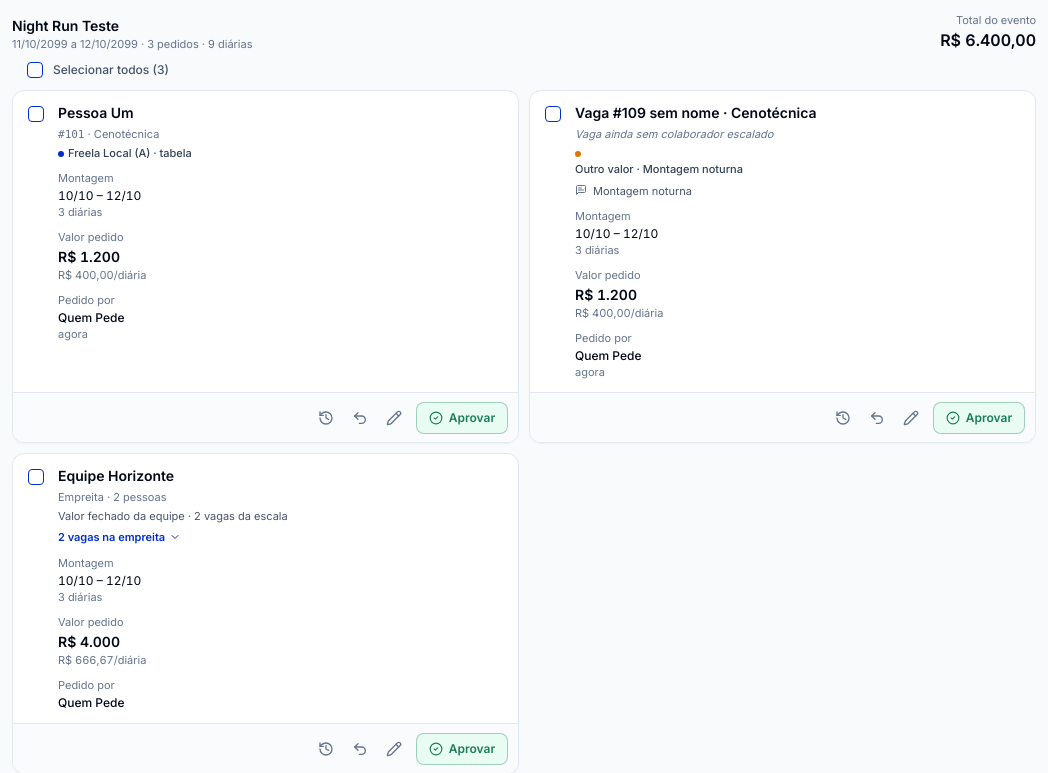
Test: Honorários — empreita que agrupa vagas › aprovador vê a origem do valor (tabela × outro valor) e a empreita como um pedido com as vagas
Expected: the elements with test id "hon-origem-do-valor" read "Freela Local (A) · tabela", "Outro valor · Montagem noturna", "Valor fechado da equipe · 2 vagas da escala", in this order, x1=58 y1=146 x2=192 y2=160; x1=575 y1=151 x2=743 y2=176; x1=58 y1=509 x2=288 y2=523
Expected: the text "Vaga #109 sem nome · Cenotécnica" is shown, x1=575 y1=104 x2=816 y2=121
Click the button with test id "hon-empreita-vagas-botao" at point(120, 537), box x1=54 y1=529 x2=185 y2=545
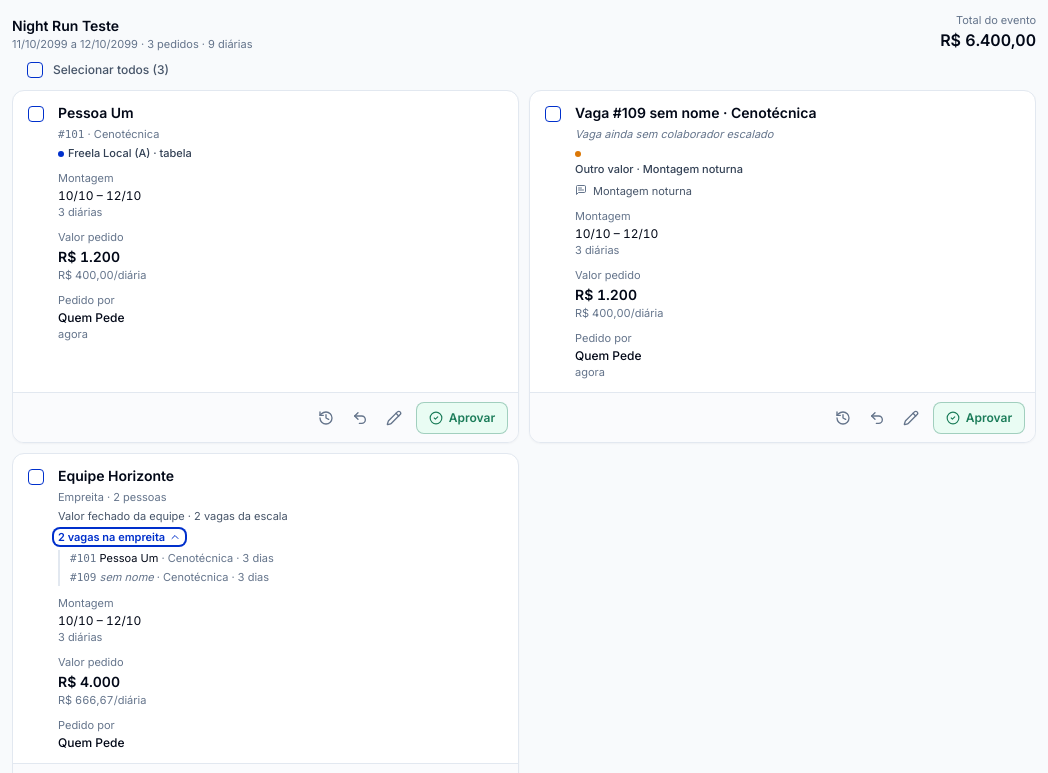
Now the list with test id "hon-empreita-vagas" shows "#101 Pessoa Um", box x1=58 y1=550 x2=504 y2=586
